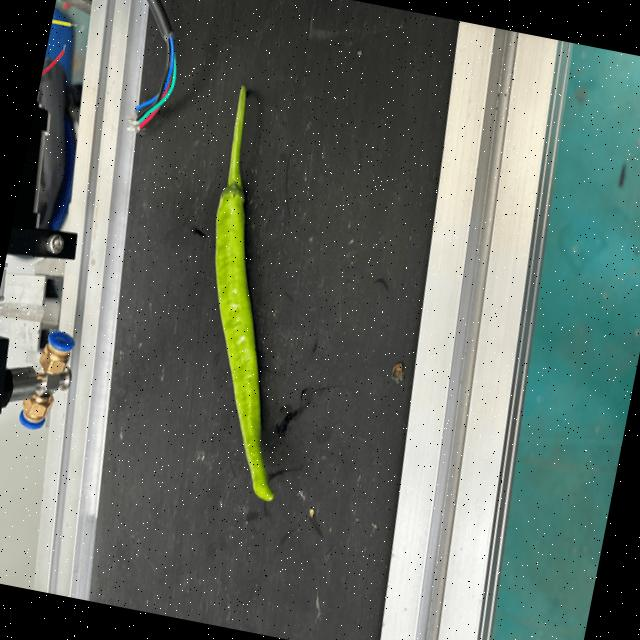chili: (213, 183, 278, 504)
